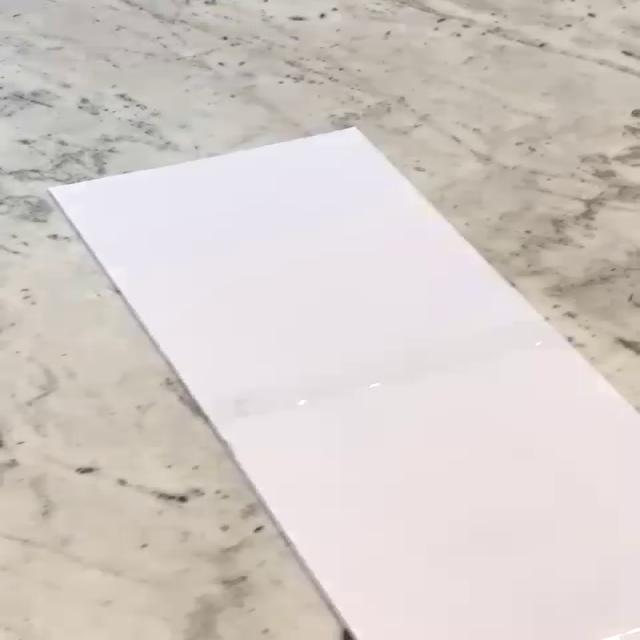road: (45, 127, 640, 640)
